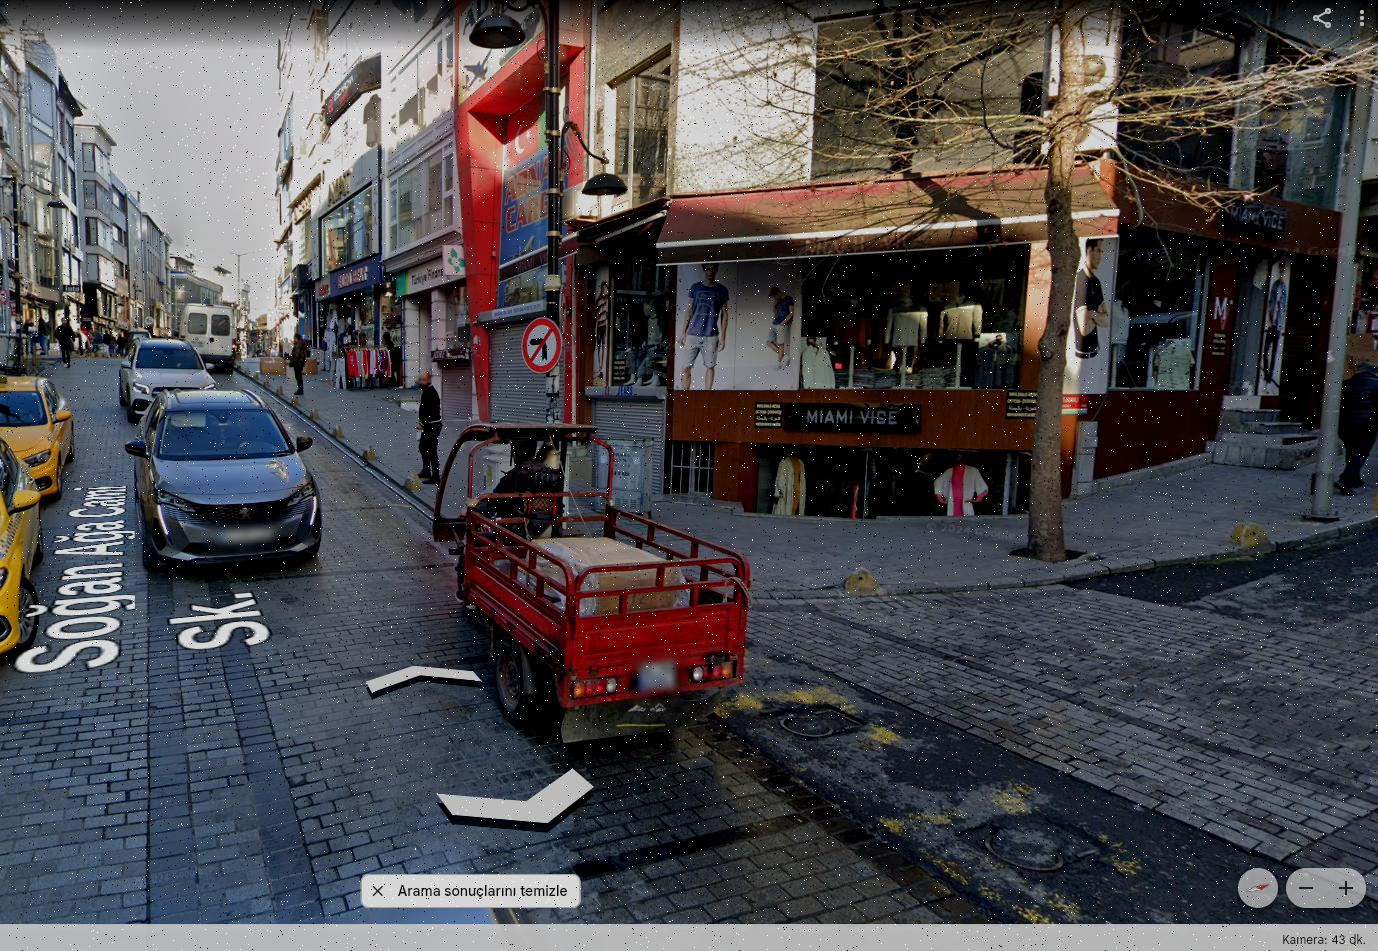leftturnsareforbidden: (525, 320, 561, 371)
